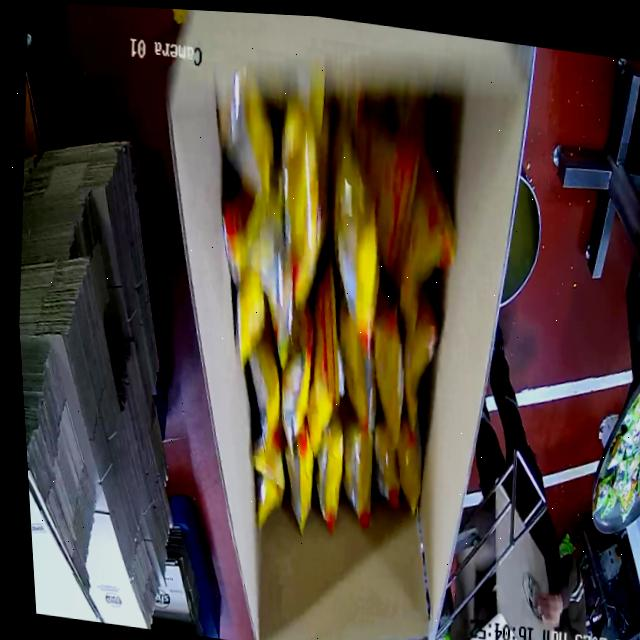SALTED: (201, 75, 475, 541)
